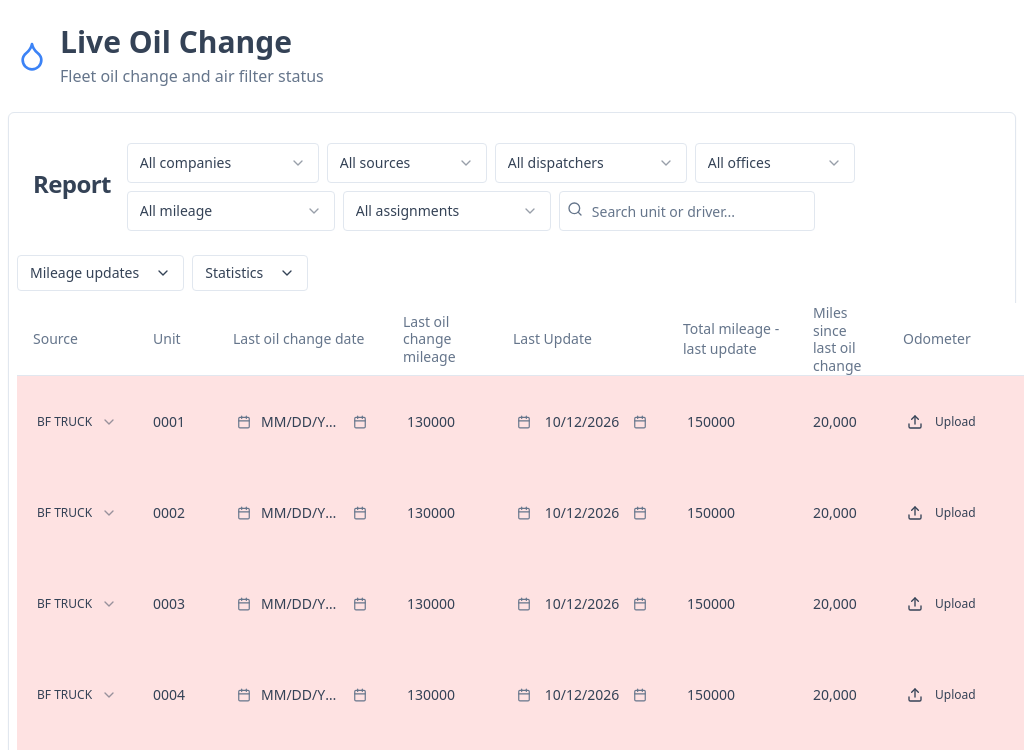
shows truck readiness and counts the same value in statistics
Step 1. Type "0499" into the field with placeholder "Search unit or driver..." → (687, 211), box x1=559 y1=191 x2=815 y2=231
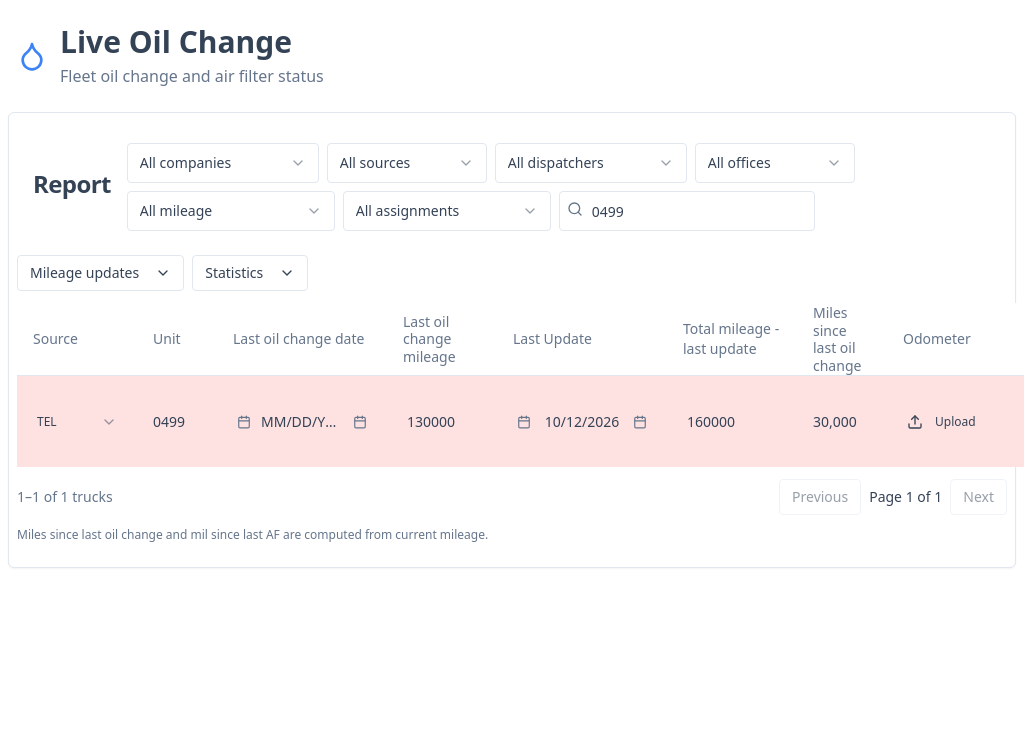
Step 2. Click the button "Statistics" → (250, 273), box x1=192 y1=255 x2=308 y2=291
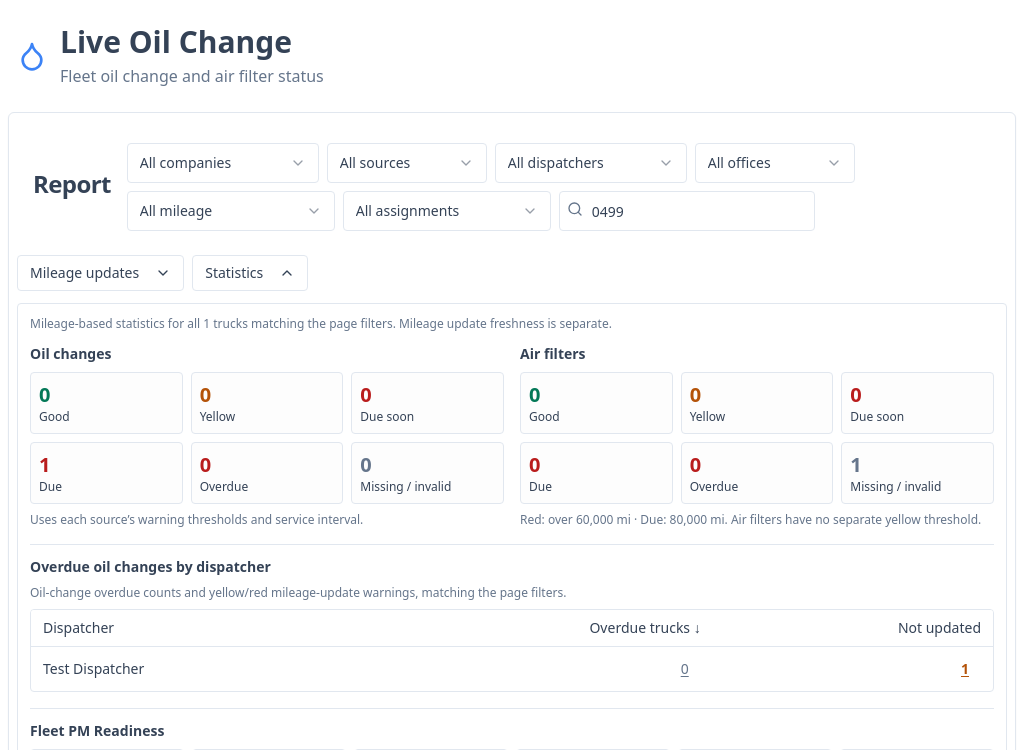
Expected: the table named "Overdue oil changes by dispatcher" shows "Test Dispatcher", x1=43 y1=659 x2=144 y2=678
Expected: the button named "Show overdue oil changes for Test Dispatcher" reads "0", x1=669 y1=655 x2=701 y2=683
Expected: the table named "Overdue oil changes by dispatcher" shows "Not updated", x1=898 y1=618 x2=981 y2=638
